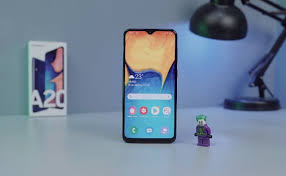samsung: (120, 26, 179, 142)
